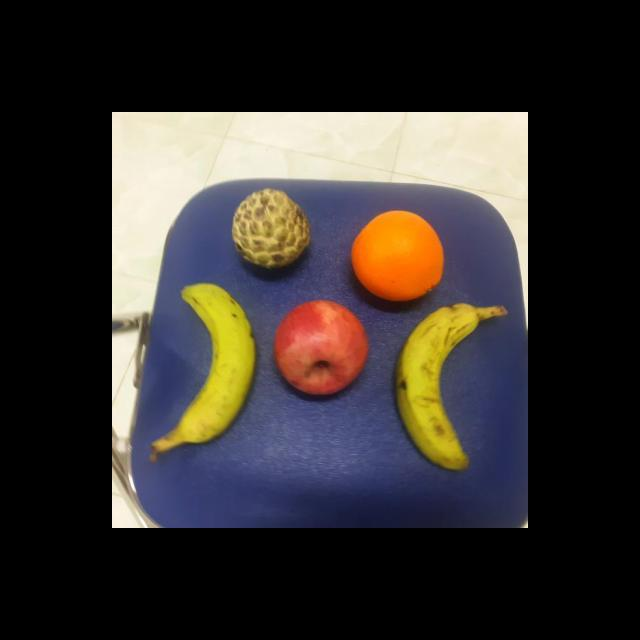Sakya fruit: (230, 187, 312, 272)
apple: (273, 299, 371, 398)
banana: (395, 300, 488, 470), (167, 283, 258, 451)
orange: (348, 207, 446, 303)
